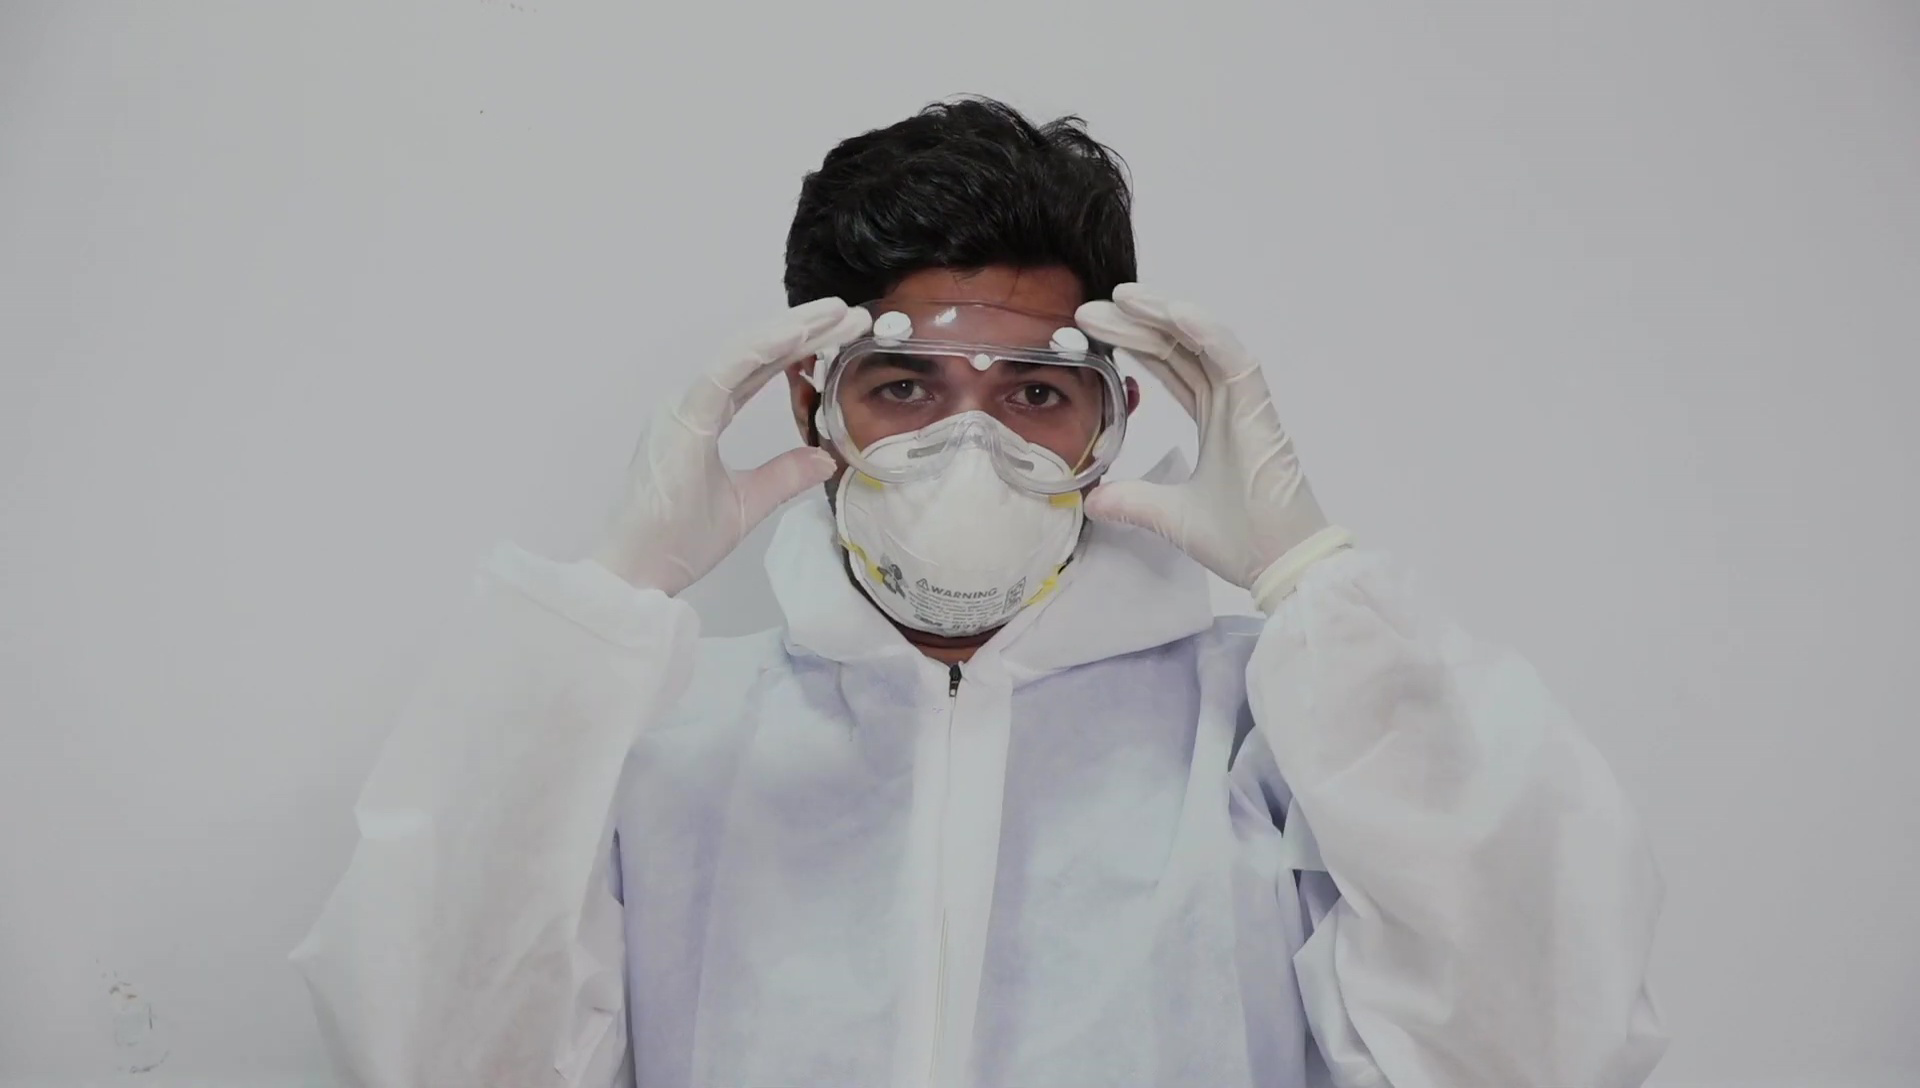Coverall: (292, 535, 1674, 1082)
Gloves: (591, 295, 873, 601), (1074, 281, 1329, 599)
Goggles: (823, 301, 1128, 500)
with_mask: (841, 376, 1086, 633)
